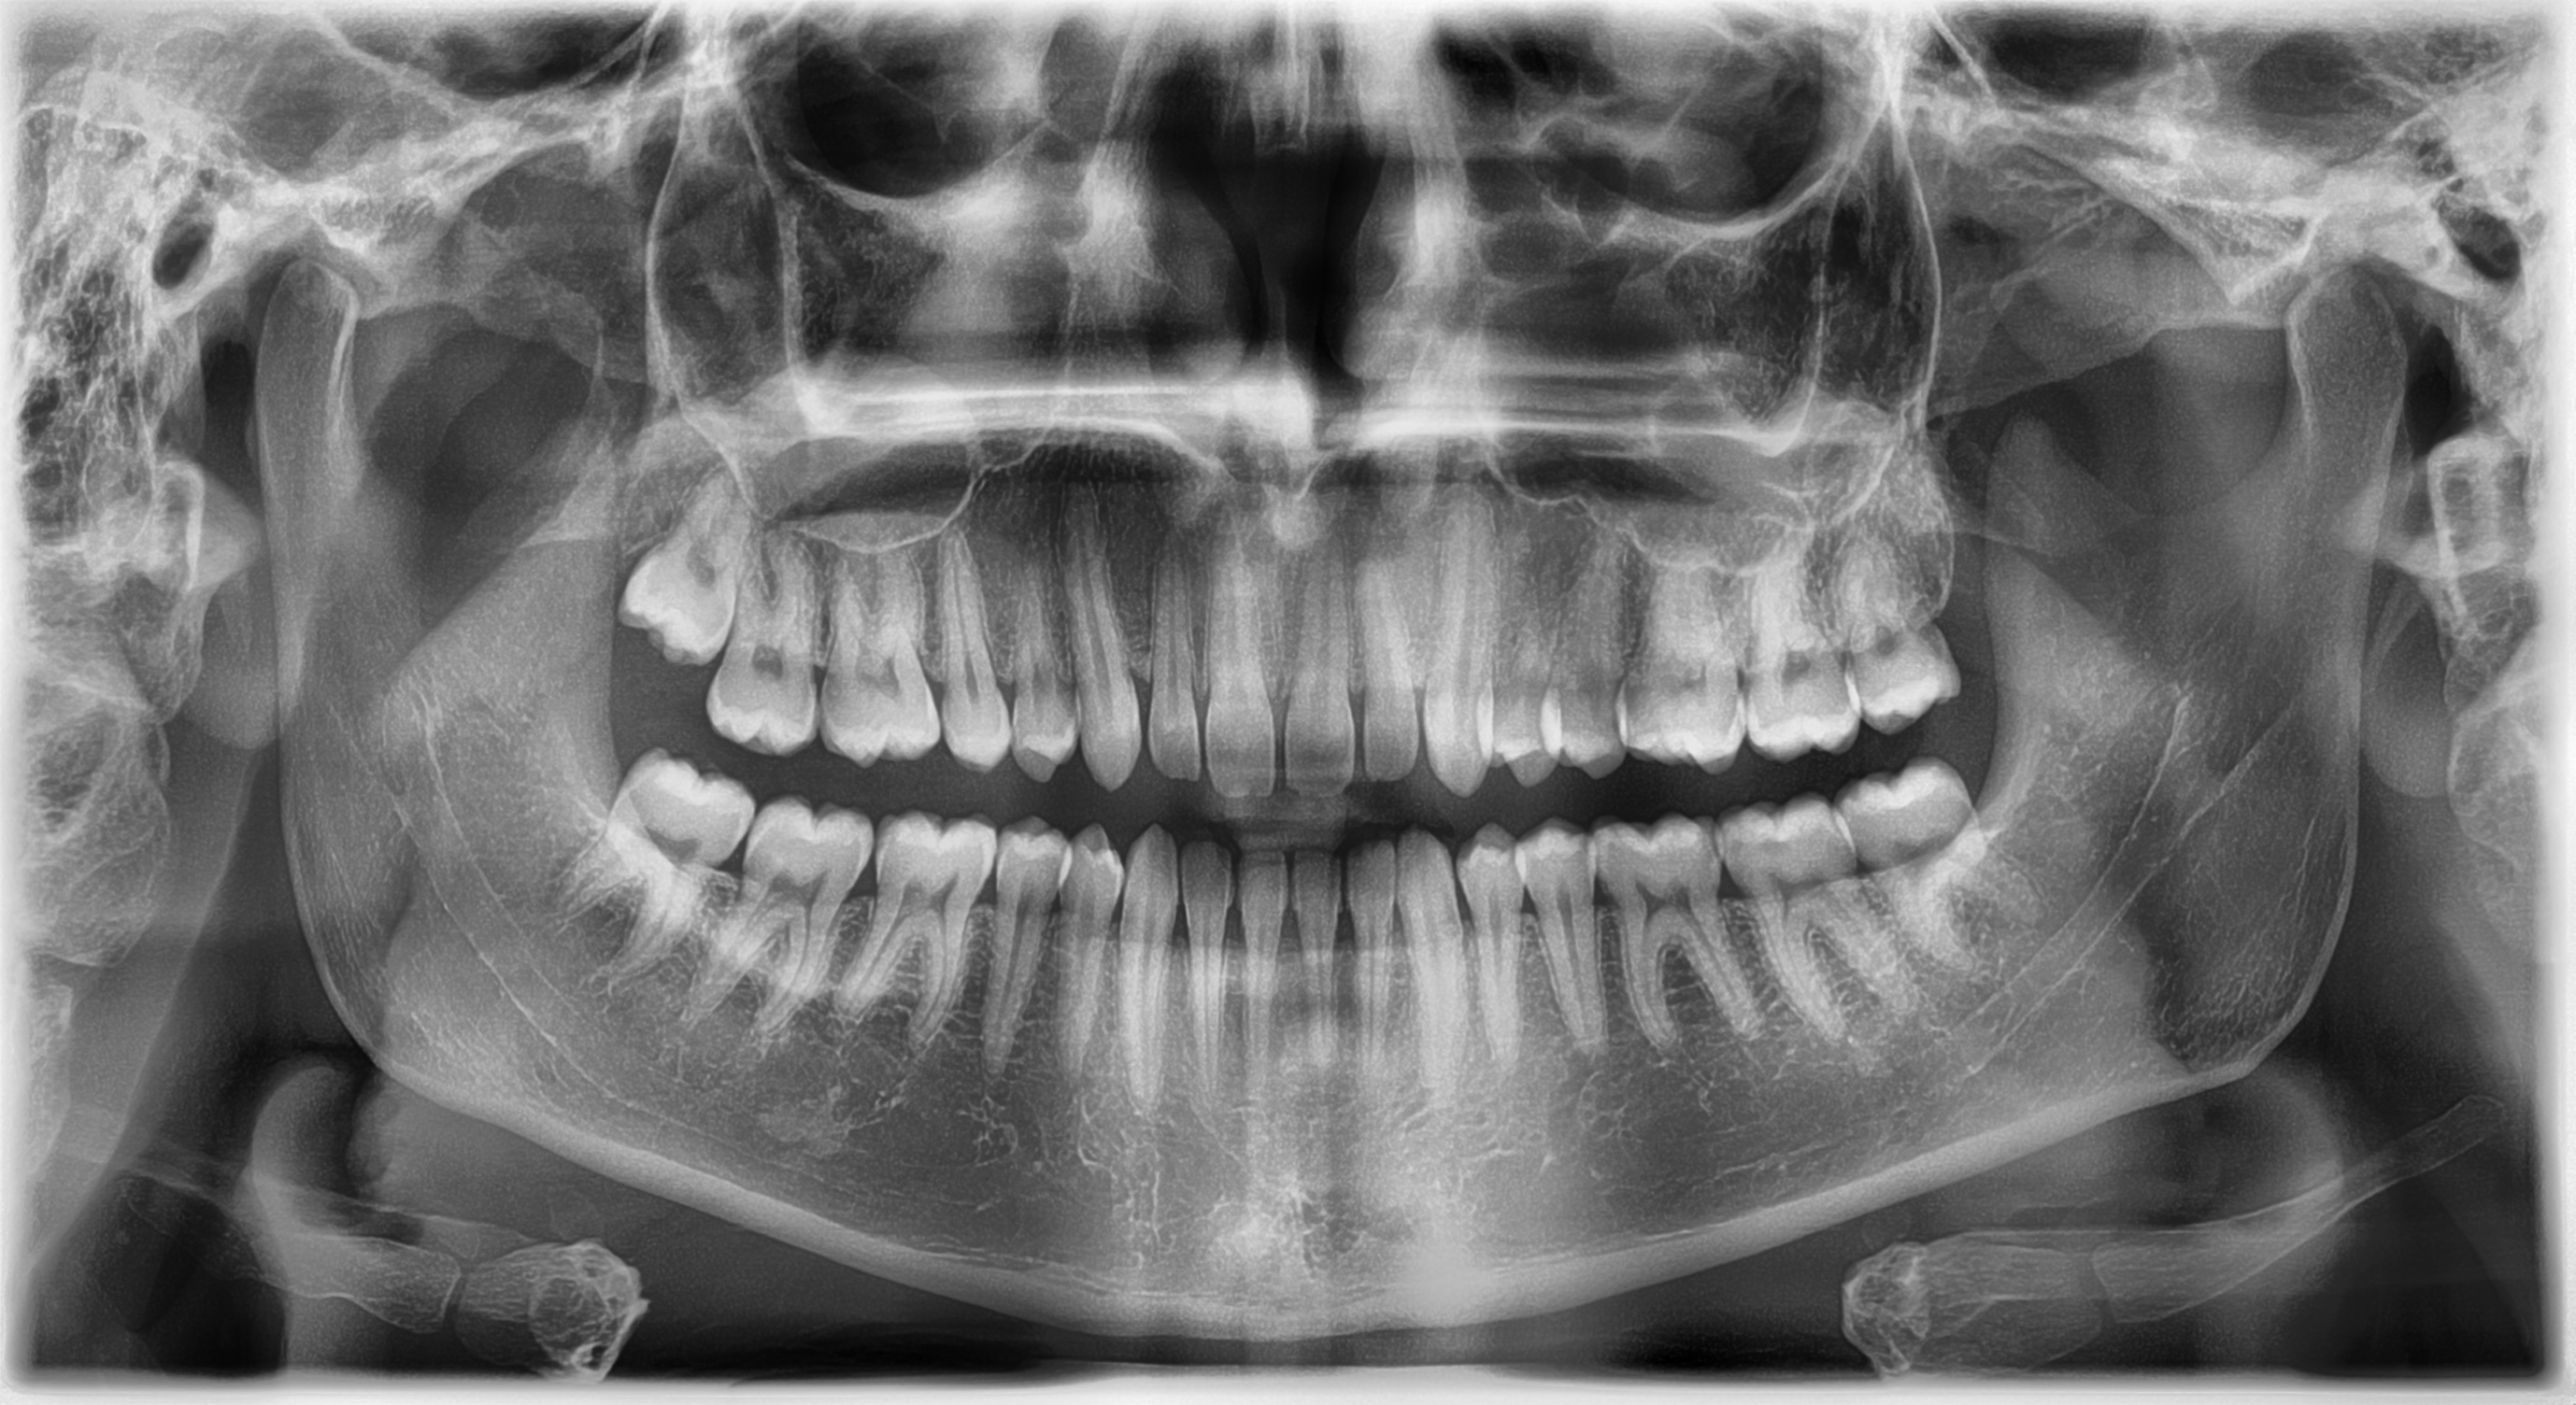apinamiento: (1410, 680, 1654, 782)
cordal: (536, 728, 766, 1004), (1827, 741, 2060, 993), (1806, 516, 1991, 747), (602, 436, 761, 687)
